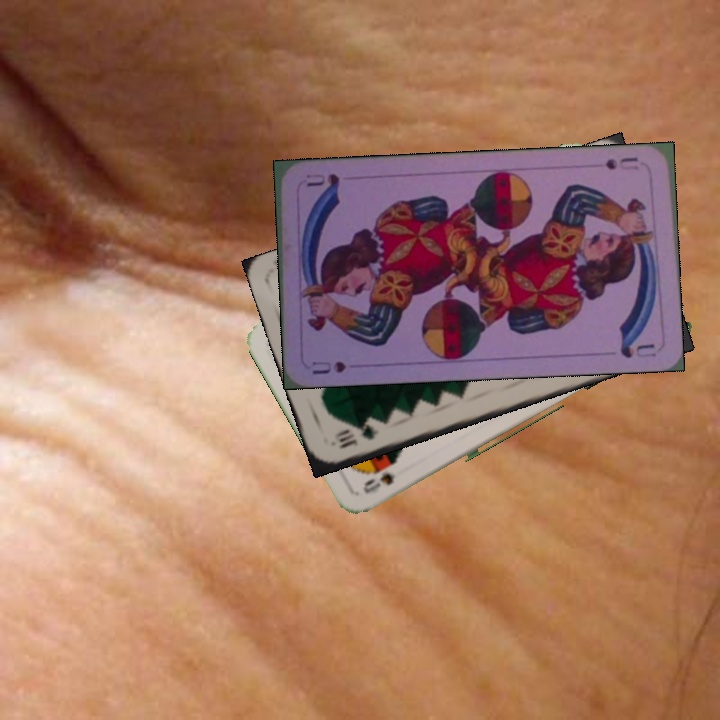G10: (333, 421, 381, 452)
SO: (358, 468, 397, 497)
SU: (308, 357, 348, 377), (601, 153, 641, 172)
